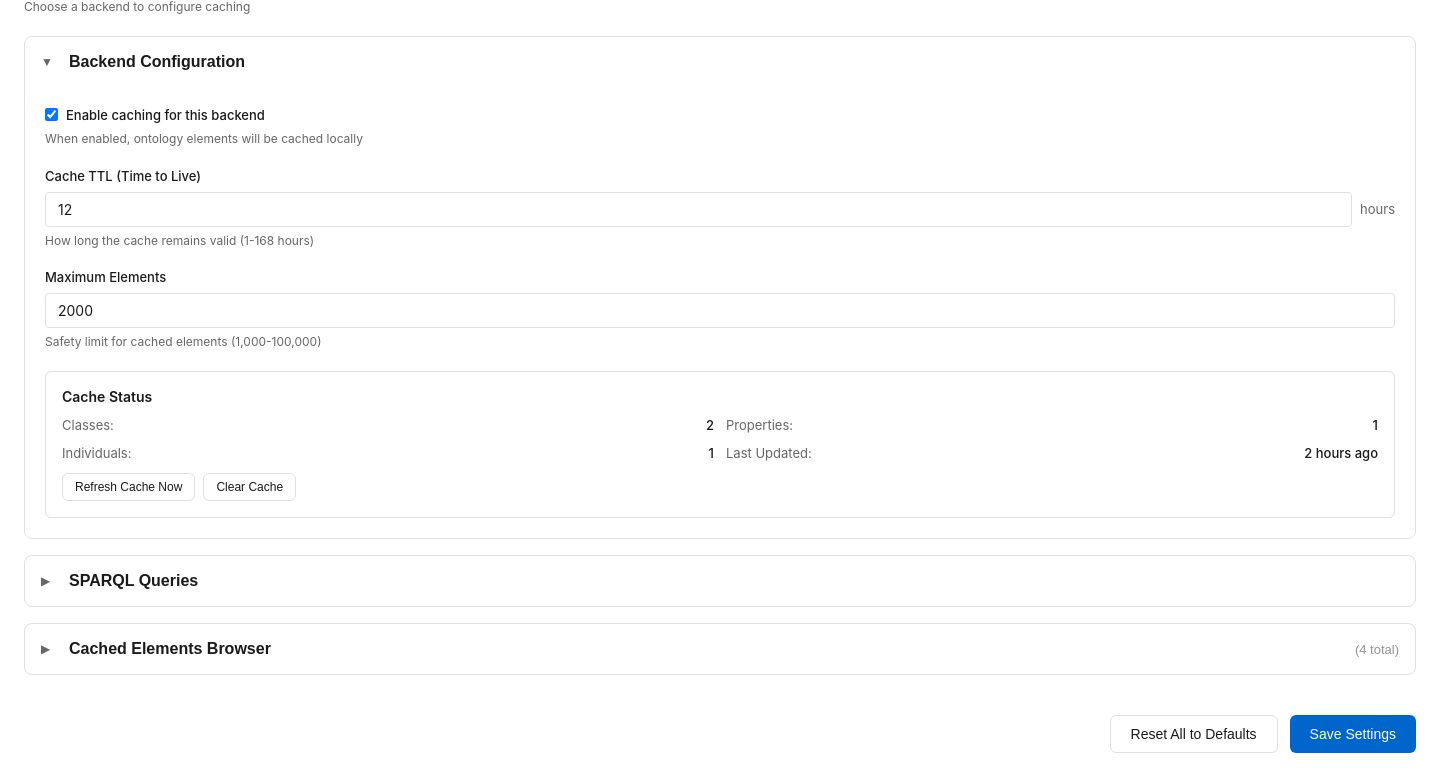
Test: CacheSettingsView - element browser › debounces search input and shows the empty state
(page scrolled)
Click the button with class "section-header" that starts with "Cached Elements Browser".
click(170, 649)  # box [25,624,1415,674]
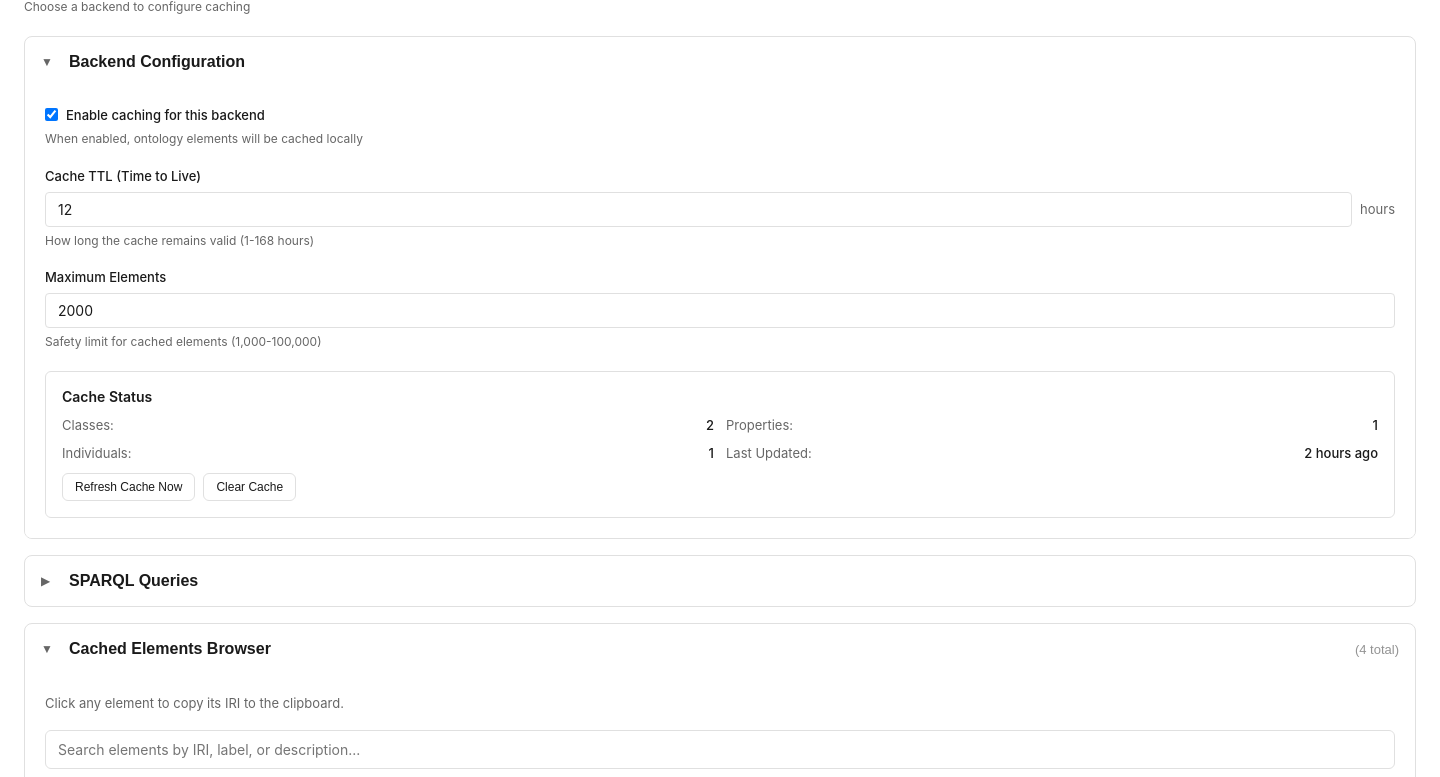
Type "pers" into the field with class "search-input".
click(720, 749); type("pers")  # box [45,730,1395,769]
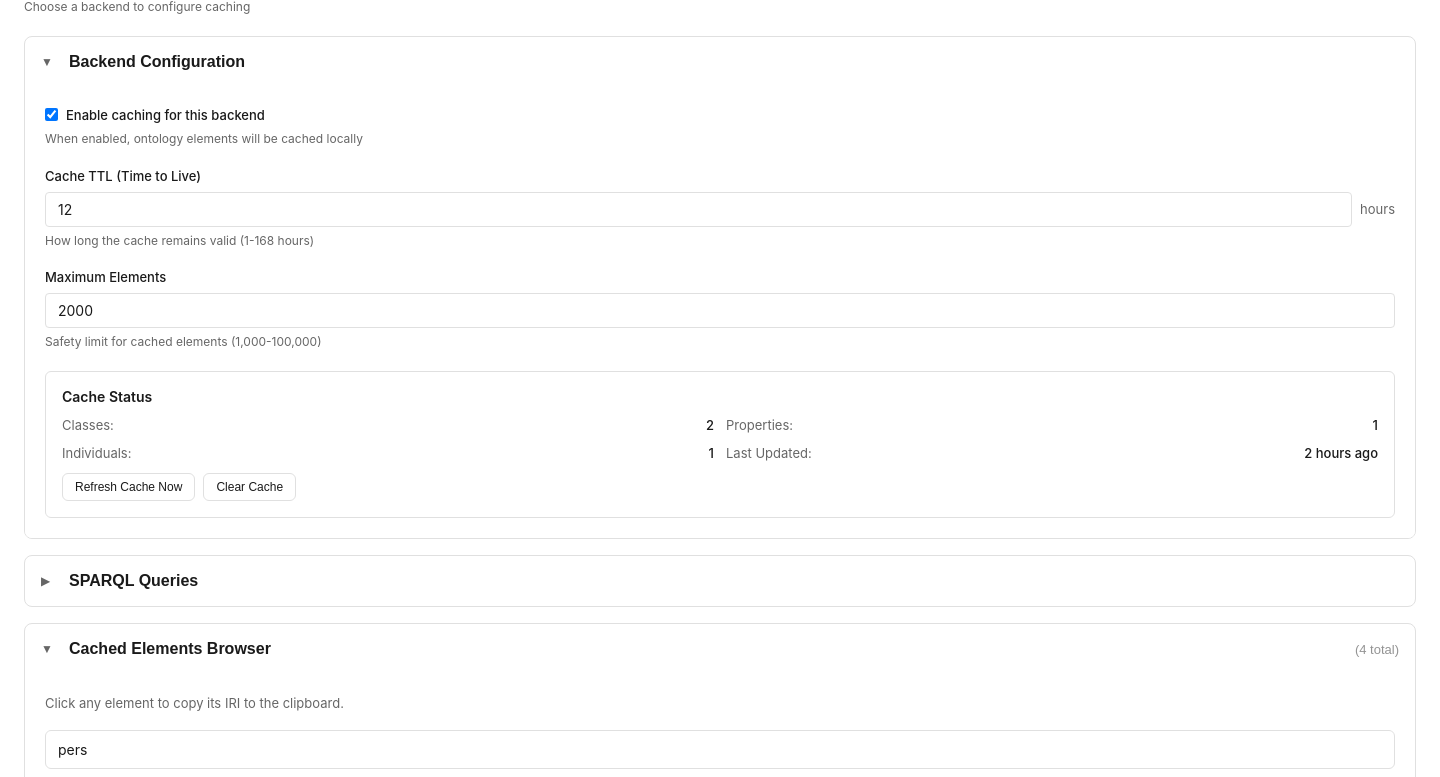
Replace the text in the field with class "search-input" with "perso" at x=720, y=749, box [45,730,1395,769]
Wait 300 ms
(page scrolled)
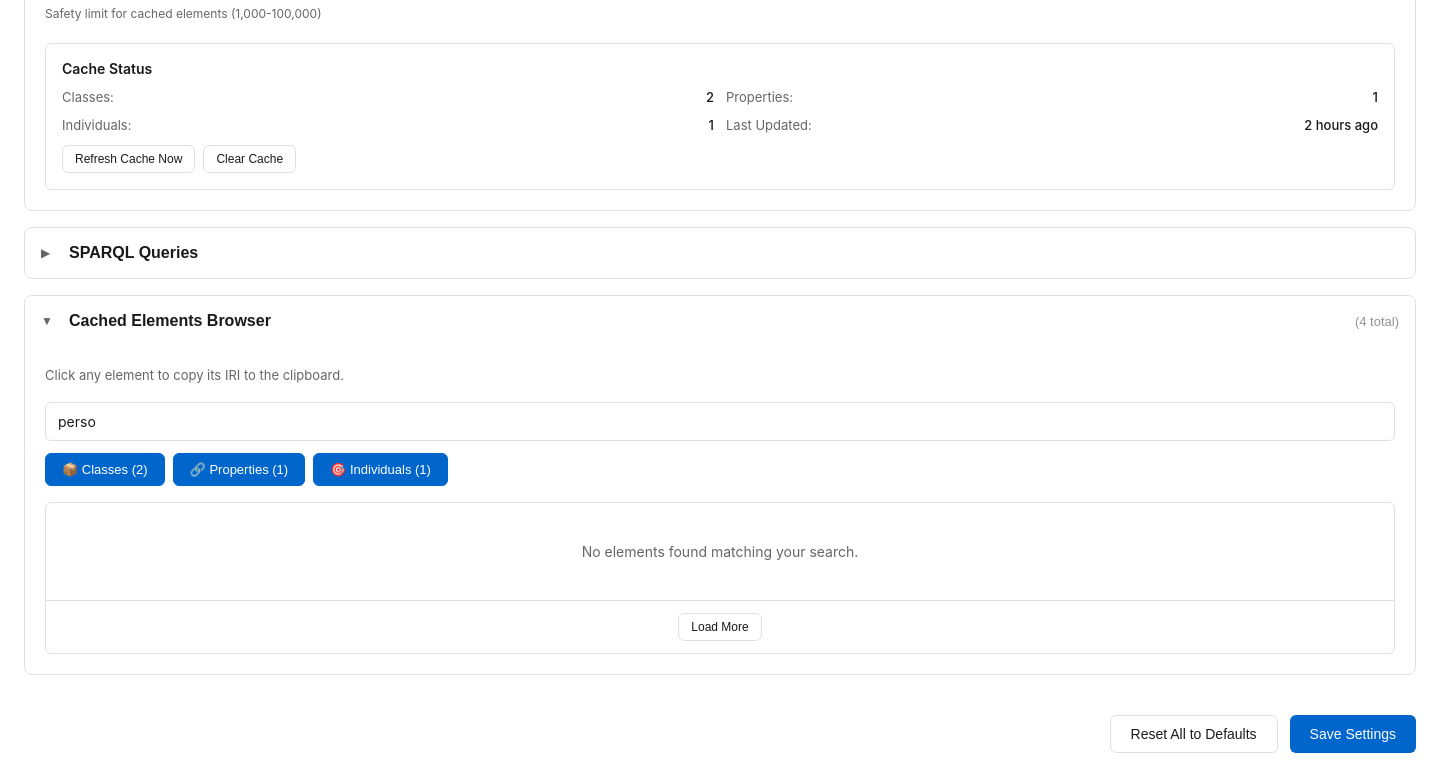
Check: the text "No elements found matching your search." is shown, box [582,543,858,560]
